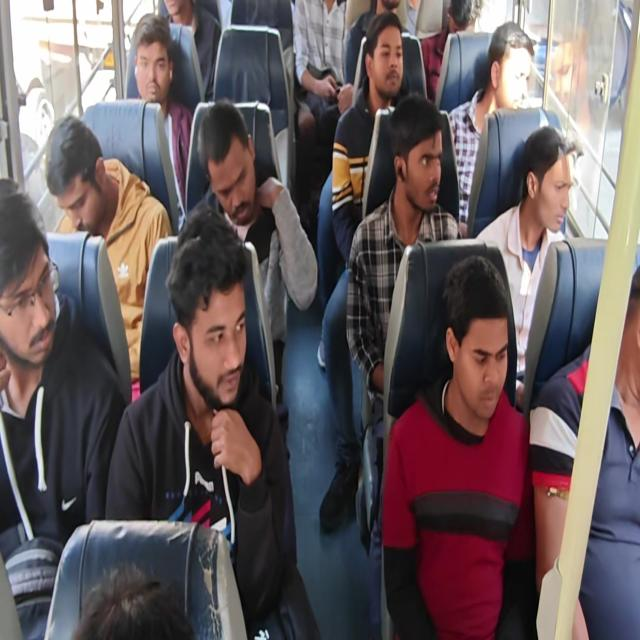person: (168, 221, 270, 413), (0, 188, 62, 368), (198, 106, 256, 218), (462, 288, 510, 422), (38, 120, 112, 206), (610, 259, 640, 398), (396, 134, 442, 218), (363, 24, 413, 101), (489, 21, 527, 112), (534, 153, 575, 232), (136, 30, 171, 105), (439, 0, 478, 44), (151, 0, 194, 24)
